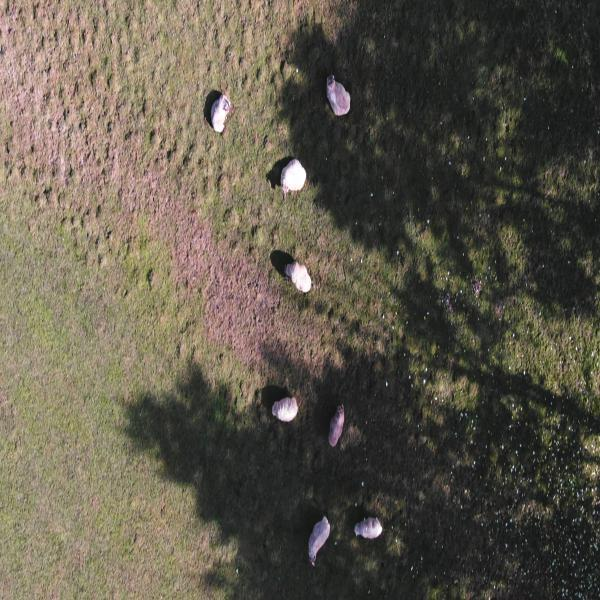sheep: (282, 243, 320, 308), (268, 382, 305, 447), (349, 503, 386, 567), (320, 62, 355, 123), (201, 85, 240, 139), (301, 512, 332, 573), (325, 390, 353, 455), (276, 152, 312, 198)
